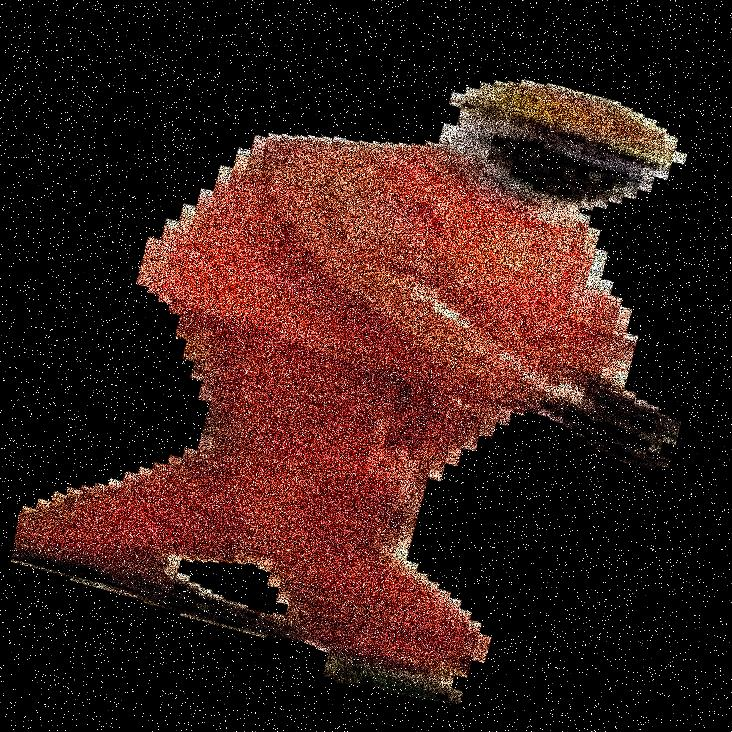Pessoa: (200, 0, 540, 731)
